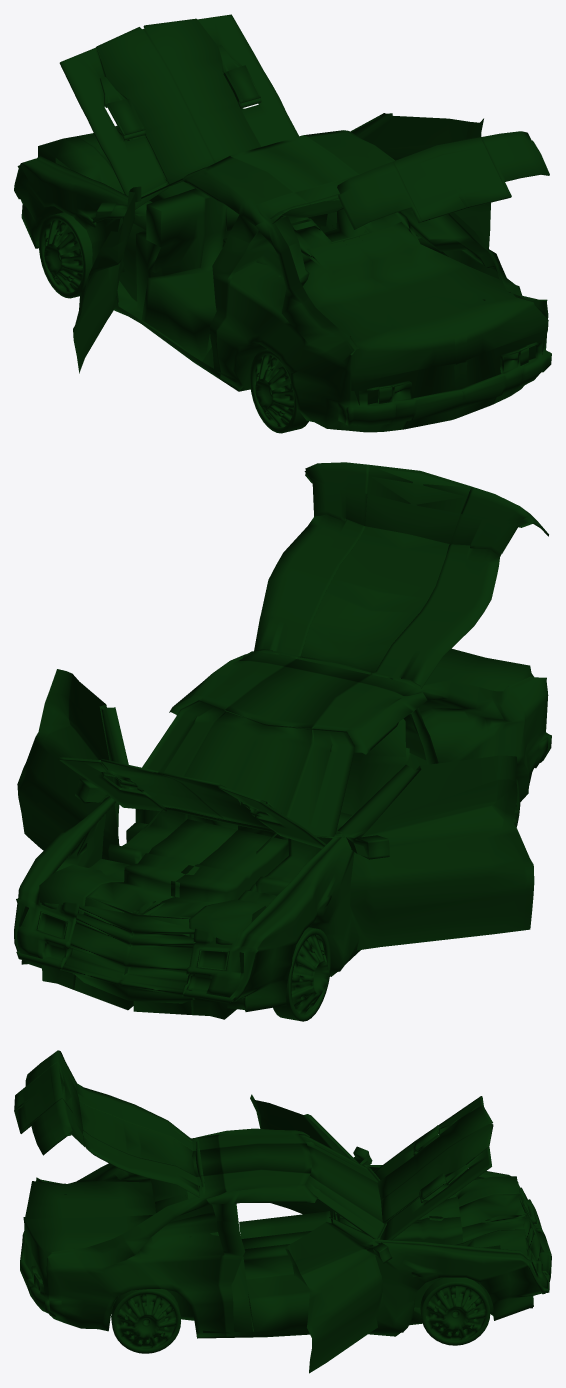
File: decor26.obj
3 views of the same model, one above another, from view 1: azimuth 30°, elevation 25°; view 2: azimuth 150°, elevation 25°; view 3: azimuth 270°, elevation 25° (orthographic). The views are drawn at different scales.
Visible parts, largest first — view 1: Cube_Cube.001, Cube.003_Cube.004, Cube.002_Cube.003, Cube.001_Cube.002, Cube.005_Cube.006, Cylindre.003, Cylindre.002; view 2: Cube_Cube.001, Cube.002_Cube.003, Cube.005_Cube.006, Cube.001_Cube.002, Cube.003_Cube.004, Cylindre.003; view 3: Cube_Cube.001, Cube.002_Cube.003, Cube.001_Cube.002, Cube.003_Cube.004, Cylindre, Cylindre.001, Cube.005_Cube.006.
Part boxes in pixels (x1=…): Cube_Cube.001: x1=14, y1=108, x2=551, y2=432; Cube.003_Cube.004: x1=59, y1=14, x2=298, y2=209; Cube.002_Cube.003: x1=270, y1=131, x2=549, y2=229; Cube.001_Cube.002: x1=320, y1=113, x2=490, y2=248; Cube.005_Cube.006: x1=73, y1=186, x2=141, y2=373; Cylindre.003: x1=39, y1=212, x2=92, y2=298; Cylindre.002: x1=250, y1=349, x2=308, y2=433; Cube_Cube.001: x1=14, y1=648, x2=551, y2=1019; Cube.002_Cube.003: x1=252, y1=462, x2=548, y2=688; Cube.005_Cube.006: x1=337, y1=755, x2=534, y2=950; Cube.001_Cube.002: x1=17, y1=669, x2=131, y2=860; Cube.003_Cube.004: x1=58, y1=757, x2=326, y2=848; Cylindre.003: x1=273, y1=927, x2=331, y2=1021; Cube_Cube.001: x1=20, y1=1128, x2=551, y2=1338; Cube.002_Cube.003: x1=14, y1=1050, x2=205, y2=1197; Cube.001_Cube.002: x1=285, y1=1217, x2=392, y2=1373; Cube.003_Cube.004: x1=374, y1=1096, x2=493, y2=1240; Cylindre: x1=420, y1=1277, x2=490, y2=1345; Cylindre.001: x1=111, y1=1289, x2=180, y2=1353; Cube.005_Cube.006: x1=250, y1=1094, x2=372, y2=1222.
Bounding box in the file's own units: 18.13 × 11.35 × 23.55.
